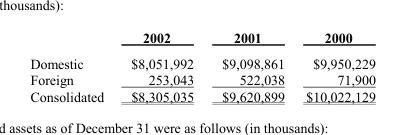table: (29, 29, 374, 103)
table column: (116, 29, 207, 103), (29, 29, 116, 103), (207, 29, 294, 103), (294, 29, 374, 103)
table column header: (29, 29, 374, 50)
table row: (29, 29, 374, 50), (29, 50, 374, 71), (29, 71, 374, 87), (29, 87, 374, 103)
